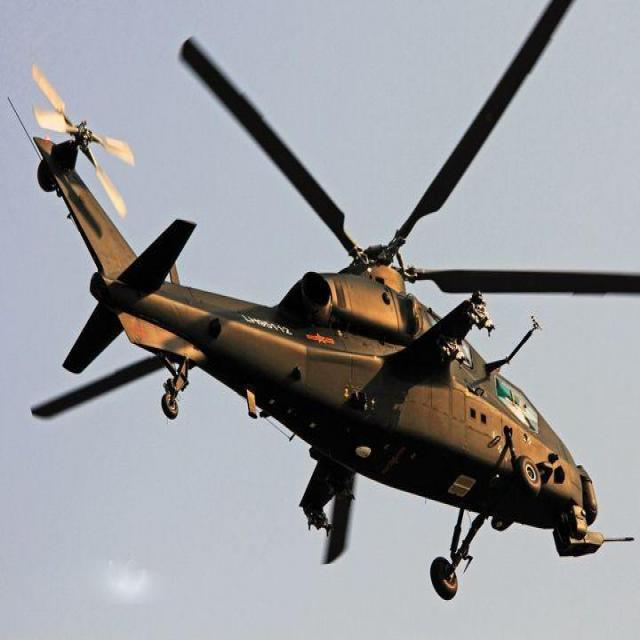MIL_HELO: (25, 15, 640, 604)
